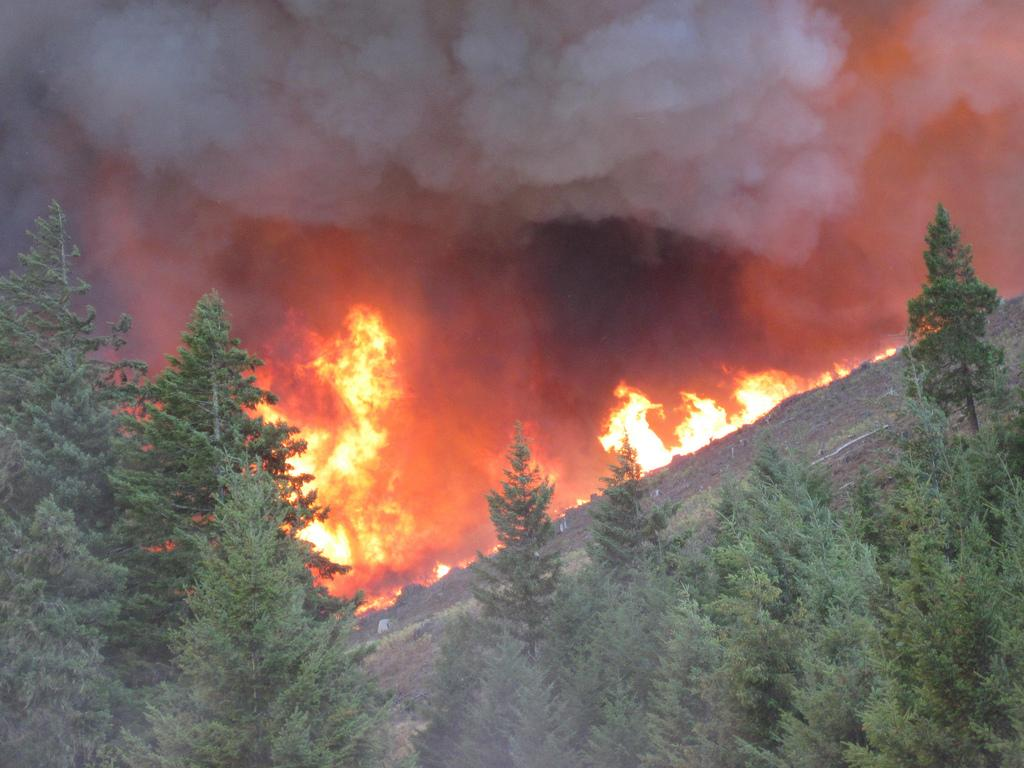fire: (174, 6, 860, 194), (276, 322, 386, 510), (604, 392, 668, 452), (680, 394, 714, 450), (736, 368, 774, 416)
